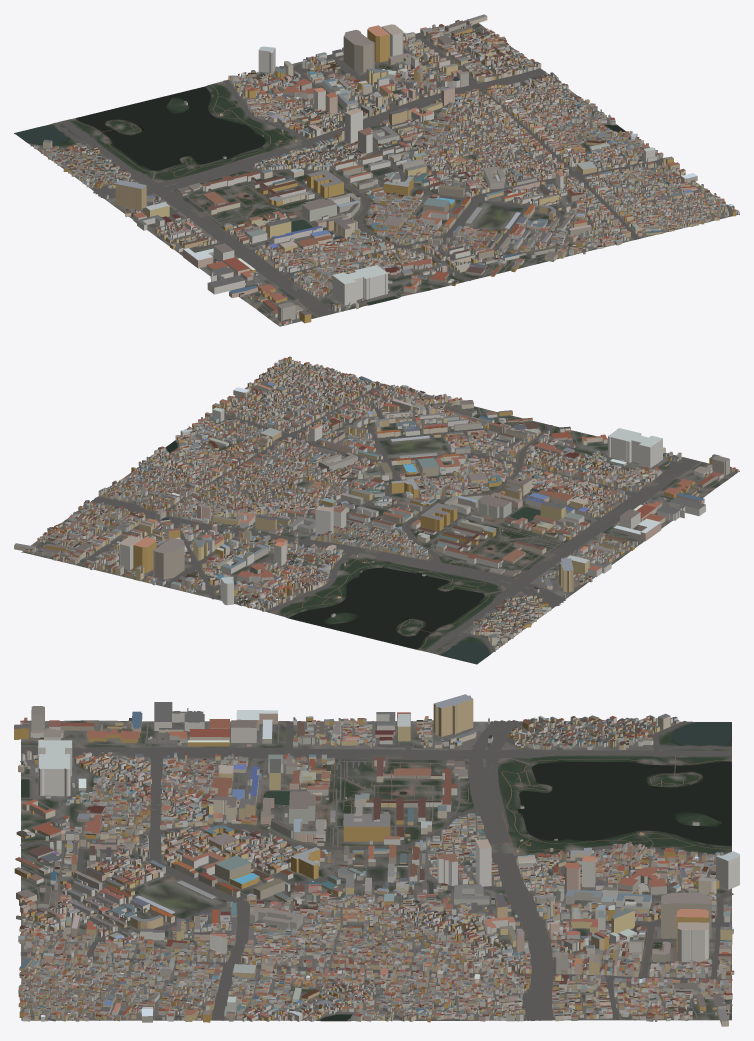
The picture shows the model from 3 angles, top to bottom: view 1: azimuth 30°, elevation 25°; view 2: azimuth 150°, elevation 25°; view 3: azimuth 270°, elevation 25°; orthographic projection. The views are drawn at different scales.
Parts seen in each view (by area): view 1: buildings, ground, roads, water; view 2: buildings, ground, roads, water; view 3: buildings, ground, roads, water.
Part boxes in pixels (x1,y1,x2,y2): buildings: (34, 14, 739, 325); ground: (14, 23, 739, 326); roads: (30, 24, 731, 325); water: (15, 86, 625, 307); buildings: (14, 356, 738, 649); ground: (21, 362, 739, 664); roads: (33, 362, 732, 654); water: (165, 441, 664, 663); buildings: (14, 694, 739, 1026); ground: (21, 720, 731, 1021); roads: (20, 720, 733, 1021); water: (21, 722, 731, 1020).
Bounding box in the file's own units: 1477 × 88.05 × 1432.
